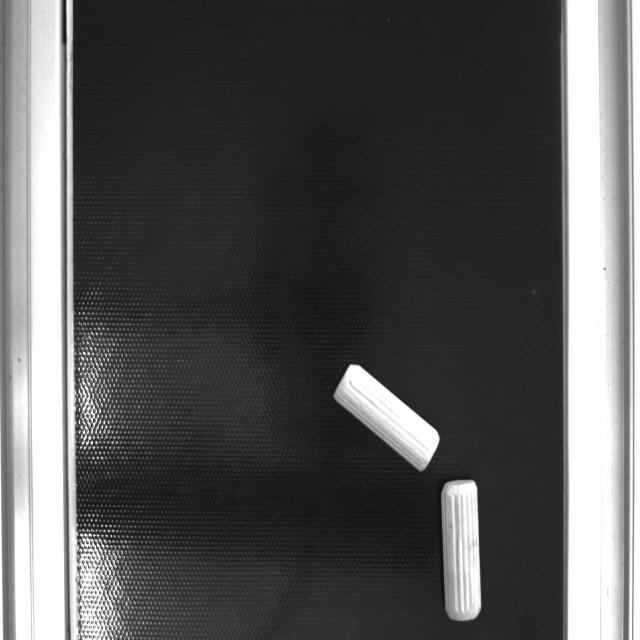Chot go: (331, 360, 443, 475), (441, 479, 481, 621)
